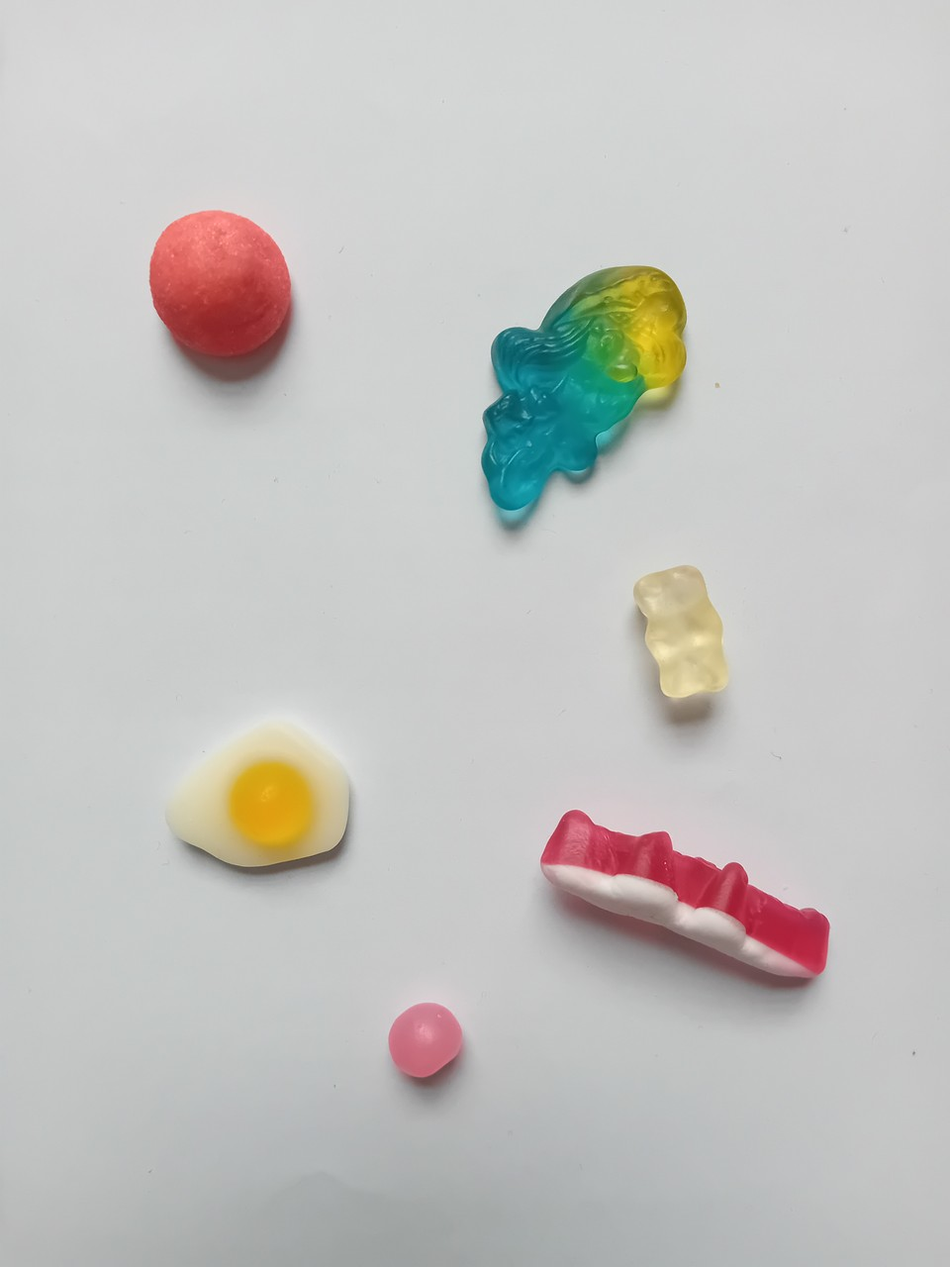crocodile_rouge: (536, 801, 835, 993)
dragibus_rose: (380, 999, 468, 1085)
oeuf_oeuf: (155, 714, 354, 878)
ourson_blanc: (624, 562, 736, 704)
schtroumpf_bleu-jaune: (479, 265, 691, 533)
tagada_fraise: (144, 203, 299, 362)
